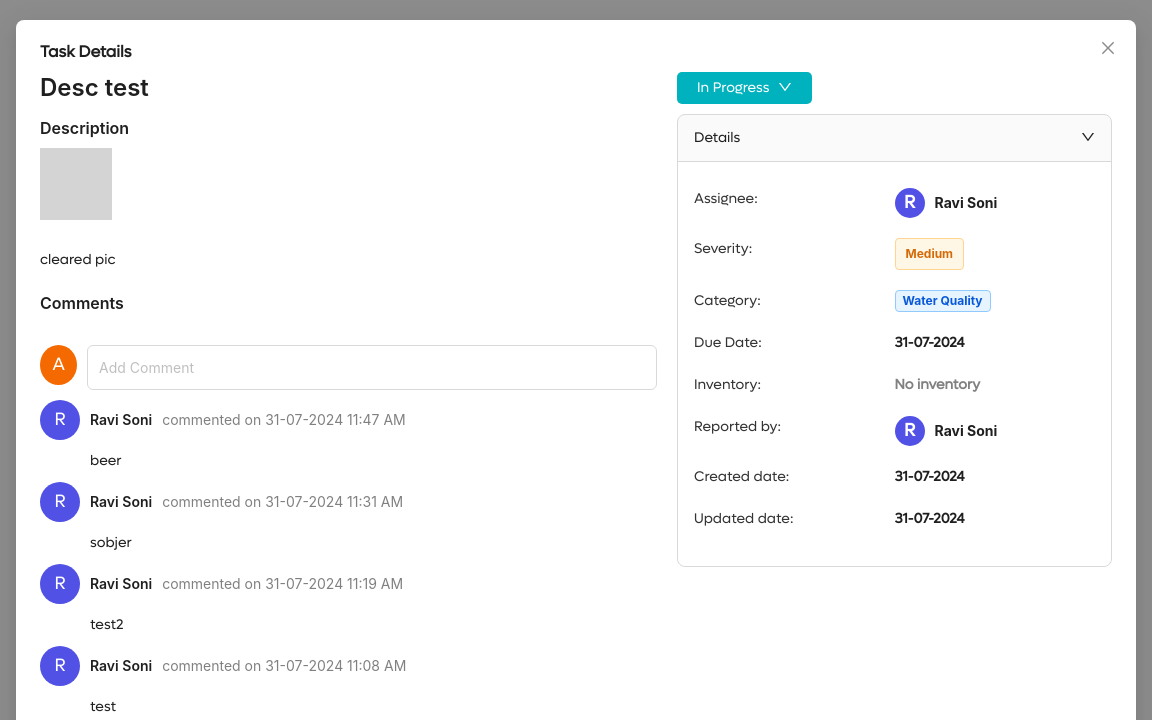
Task Details › It should render text-editor on  comment input click
Click the field with test id "comment-input": click(372, 368) [87, 345, 657, 390]
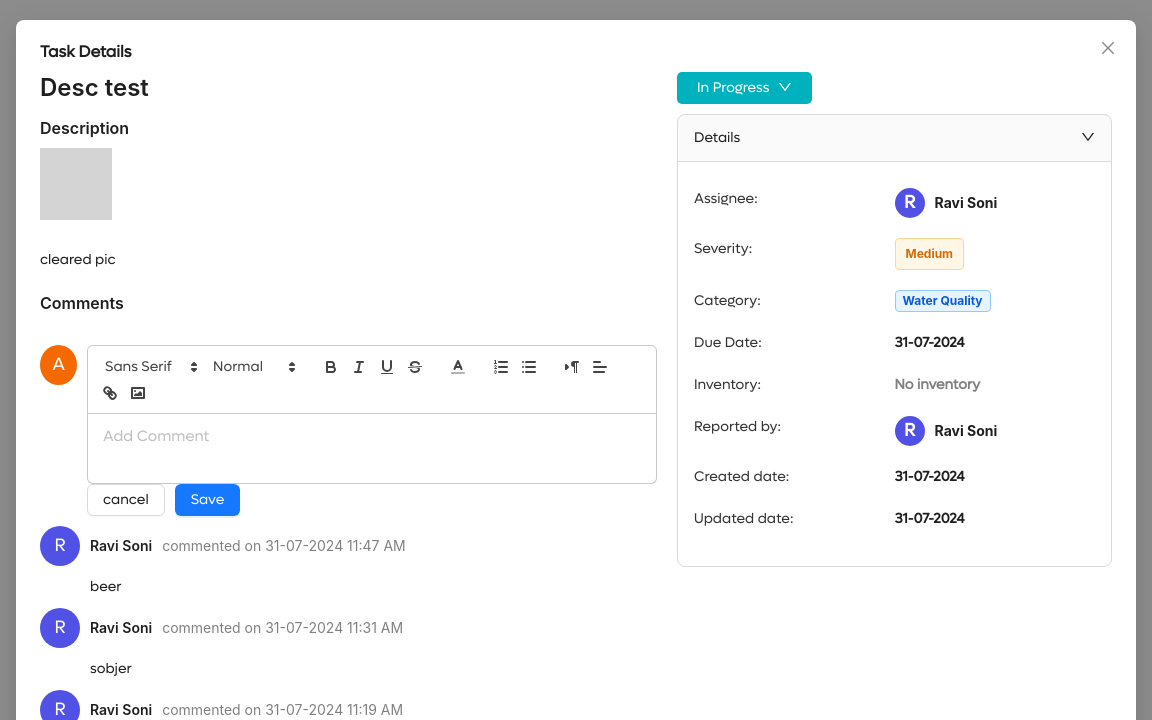
Check: the element with test id "comment-texteditor" is shown, box [87, 345, 657, 484]
